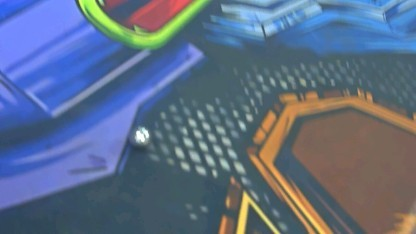ironball: (128, 120, 152, 149)
